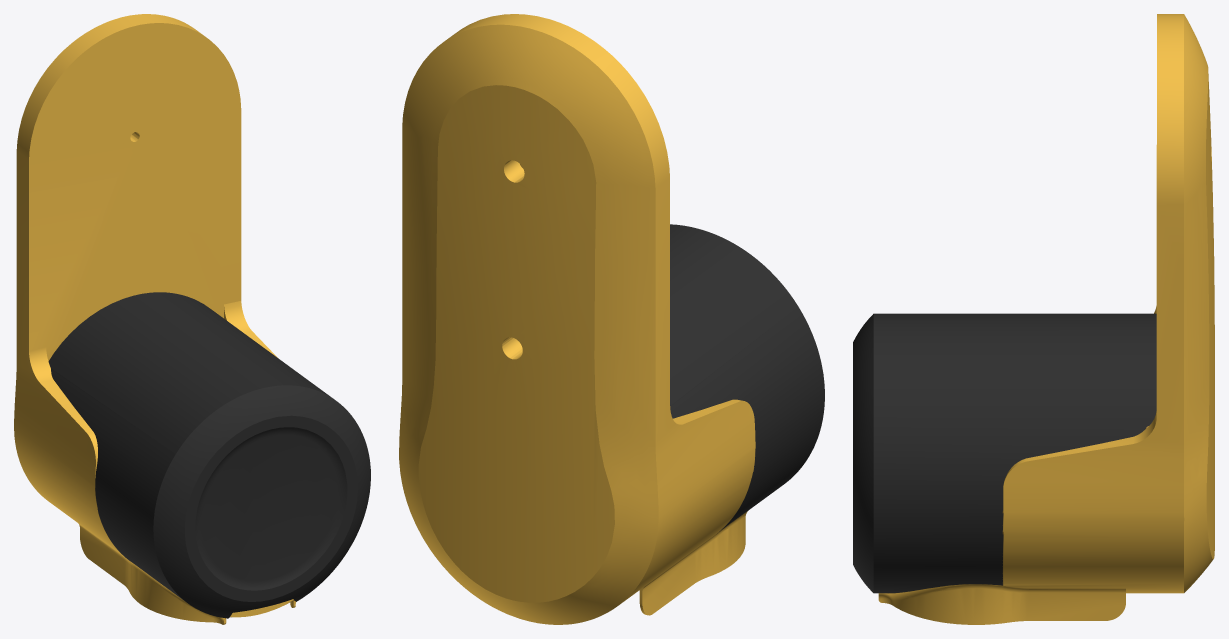
Rendered from arml5.dae.
3 renders of one model, left to right at view 1: azimuth 30°, elevation 25°; view 2: azimuth 150°, elevation 25°; view 3: azimuth 270°, elevation 25°, orthographic. The views are drawn at different scales.
Visible parts, largest first — view 1: arml5; view 2: arml5; view 3: arml5.
Part boxes in pixels (<box>): arml5: <box>14,14,370,624</box>; arml5: <box>399,14,824,624</box>; arml5: <box>853,14,1214,624</box>.
Size of the model in its own units: 0.082 by 0.106 by 0.18.
1 material, 1 textured.
